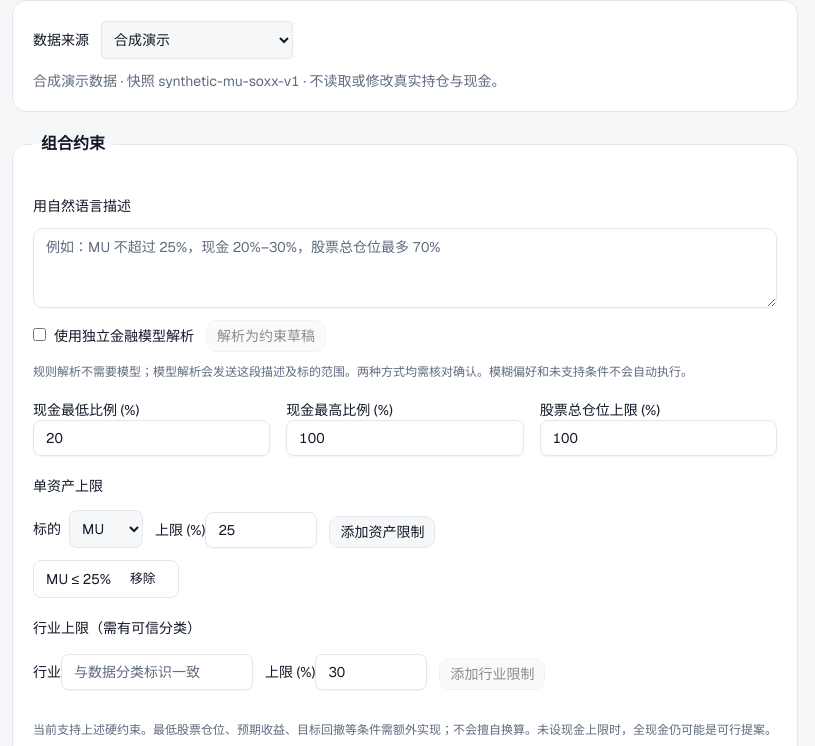
Test: blocks unresolved clauses and permits explicit discard for manual entry
Type "稳健一点" into the text box labelled "用自然语言描述" at (405, 268), box 33,228 -> 777,308
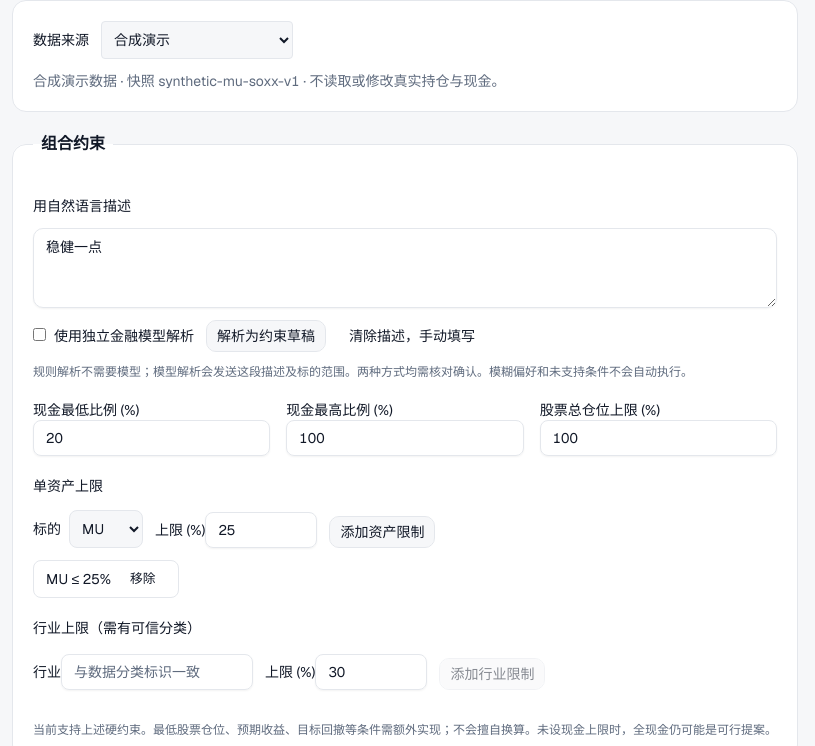
Click the button "解析为约束草稿" at (266, 336), box 206,320 -> 326,352
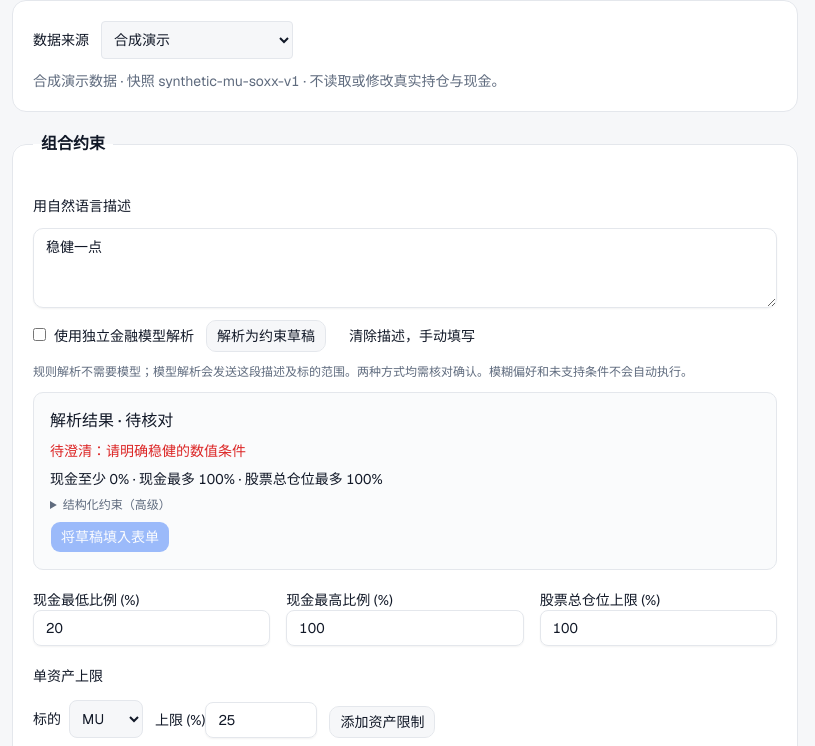
expect the text "待澄清：请明确稳健的数值条件" is shown: met, box 50,442 -> 246,460
expect the button "将草稿填入表单" is disabled: met, box 50,521 -> 170,553
Click the button "清除描述，手动填写" at (412, 336), box 338,320 -> 486,352
(page scrolled)
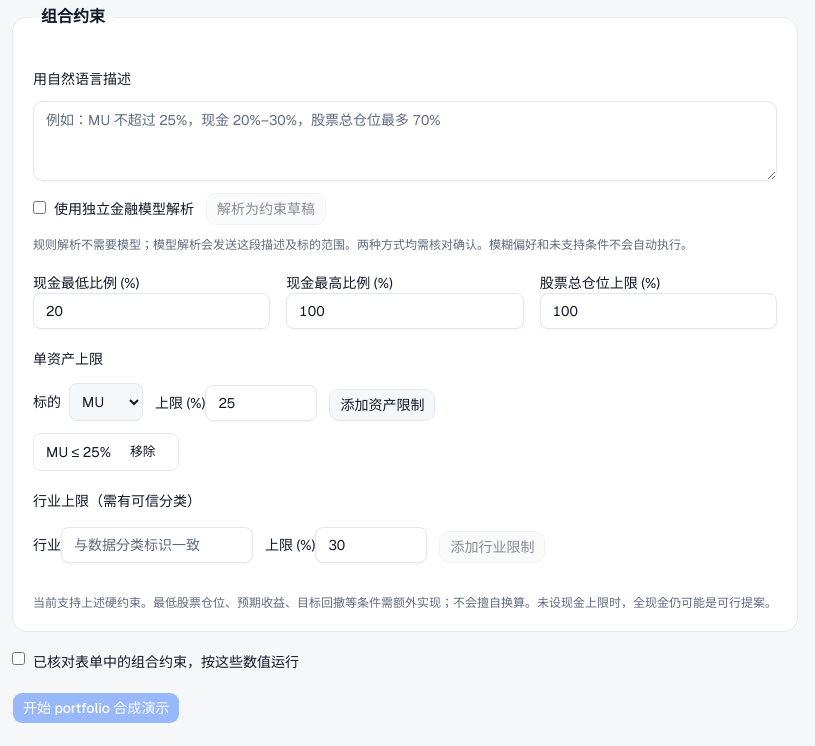
expect the checkbox named "确认组合约束" is enabled: met, box 12,652 -> 25,665
